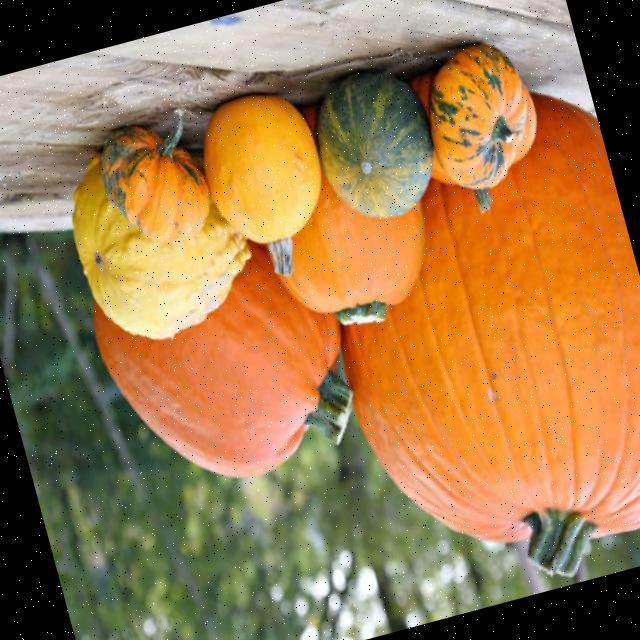pumpkin: (340, 96, 640, 574), (92, 243, 350, 476), (280, 171, 423, 323), (202, 94, 320, 275), (409, 43, 535, 211), (99, 108, 208, 242)
